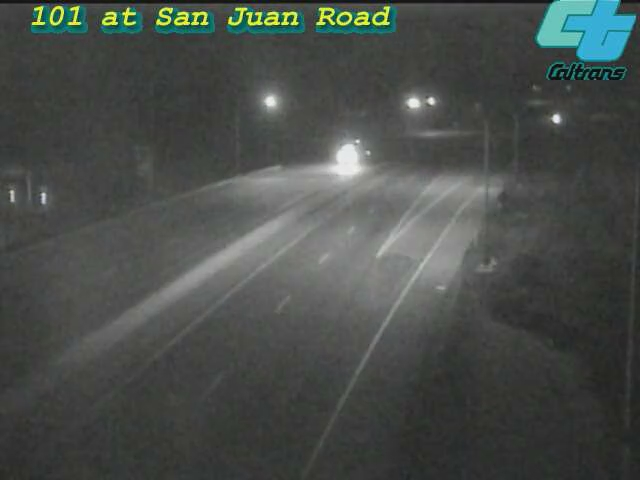vehicle: (324, 131, 374, 181), (528, 94, 578, 144)
